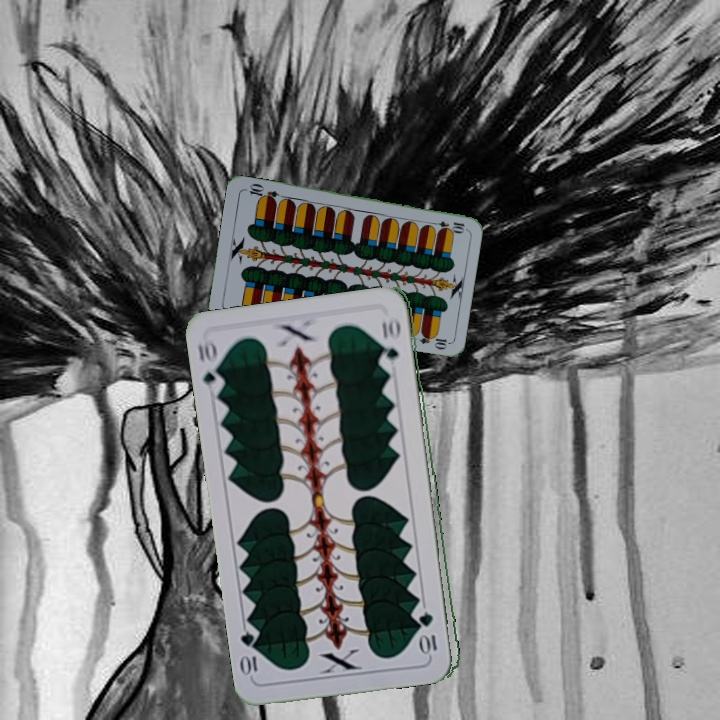E10: (426, 217, 467, 233)
G10: (193, 338, 227, 395), (419, 607, 440, 657)
